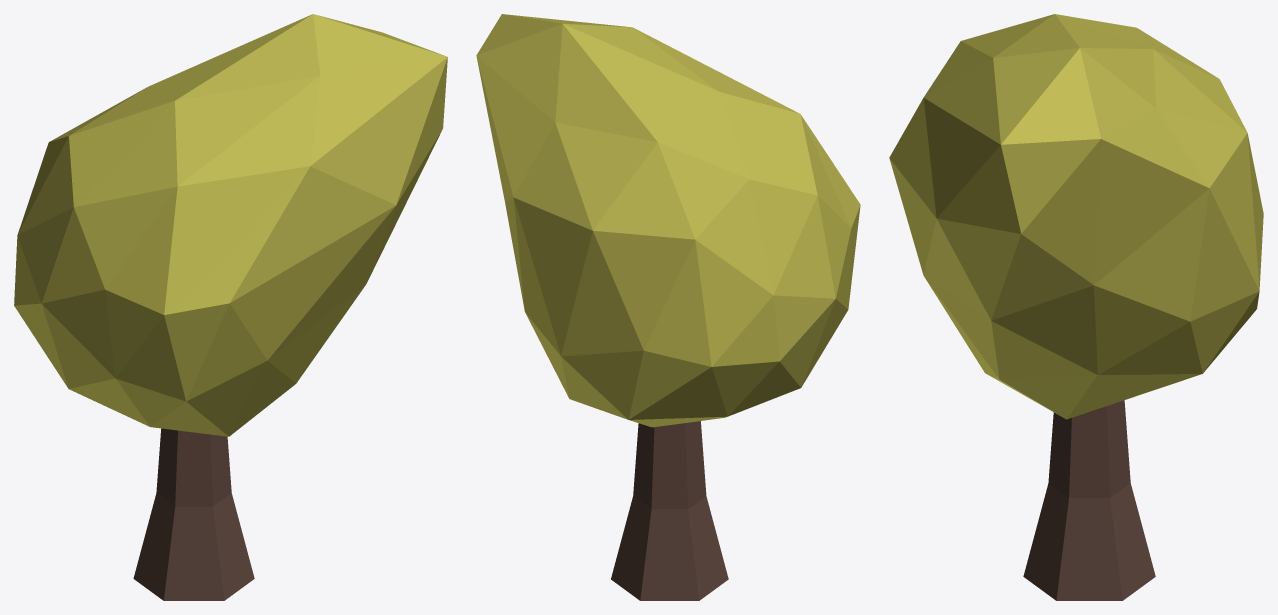
Rendered from Tree3.fbx.
3 renders of one model, left to right at view 1: azimuth 30°, elevation 25°; view 2: azimuth 150°, elevation 25°; view 3: azimuth 270°, elevation 25°, orthographic. The views are drawn at different scales.
Visible parts, largest first — view 1: Cylinder.003; view 2: Cylinder.003; view 3: Cylinder.003.
Part boxes in pixels (x1,y1,x2,y2): Cylinder.003: (14, 14, 447, 600); Cylinder.003: (476, 14, 860, 600); Cylinder.003: (889, 14, 1263, 600).
Bounding box in the file's own units: 348 × 474 × 273.
